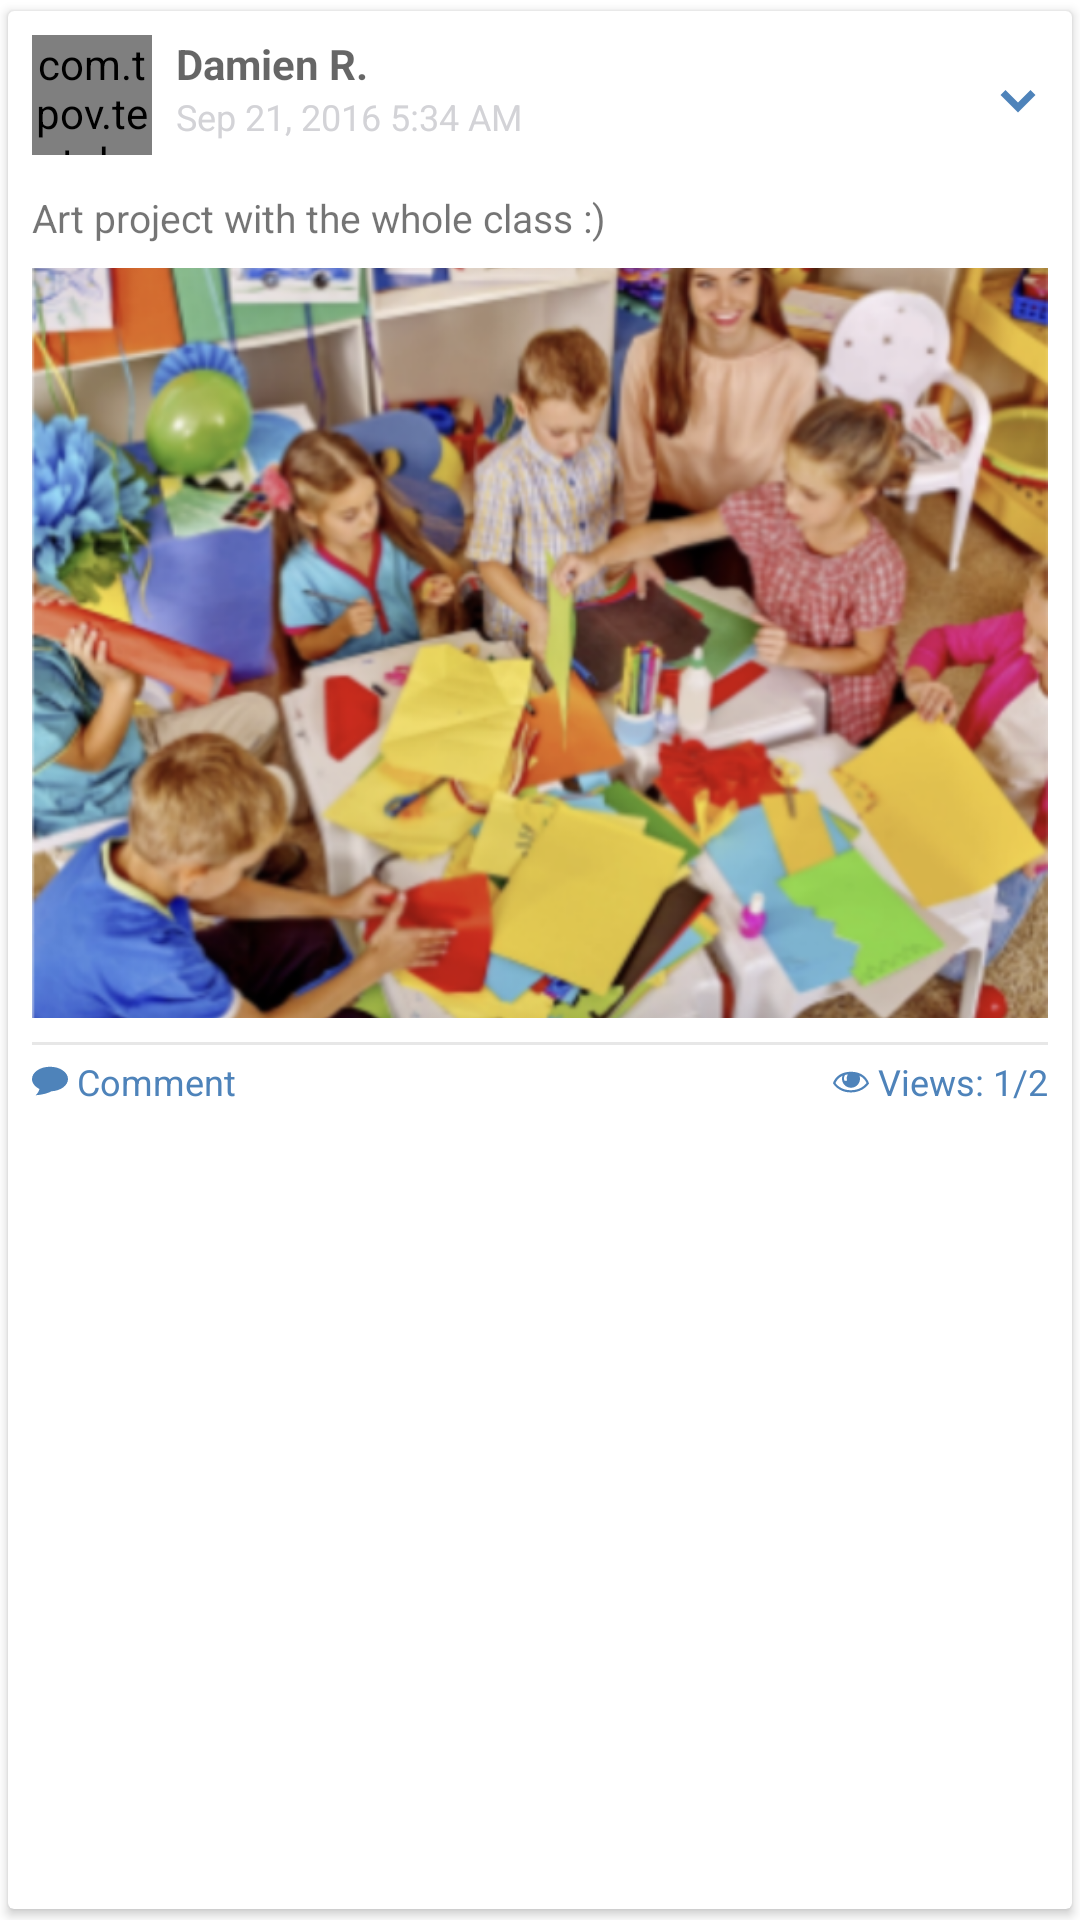

Icons on this 1080px x 1920px Android screen, each with the point to tap as [x,y]:
arrow down: [1018,101]
